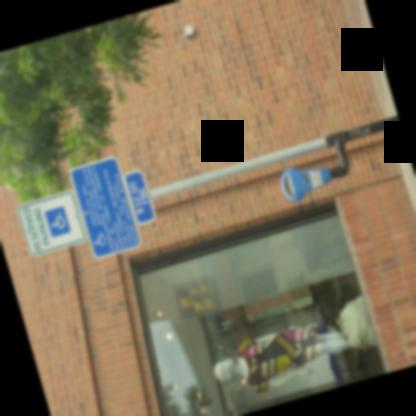handbag: (335, 292, 378, 351)
